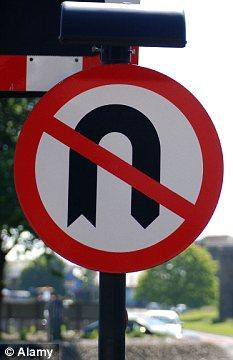no_u_turn: (12, 62, 223, 270)
